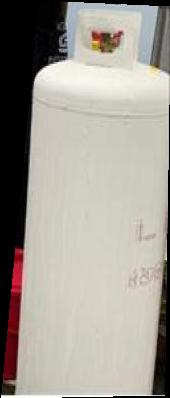cylinder: (1, 0, 170, 398)
